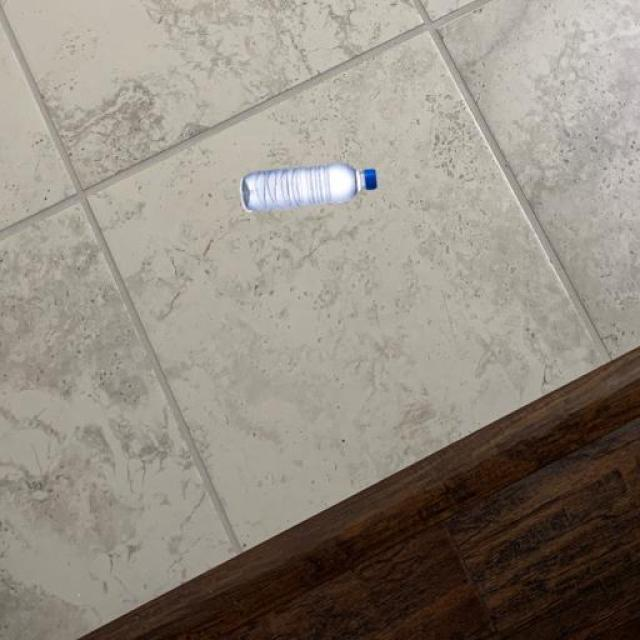bottle: (238, 161, 378, 214)
